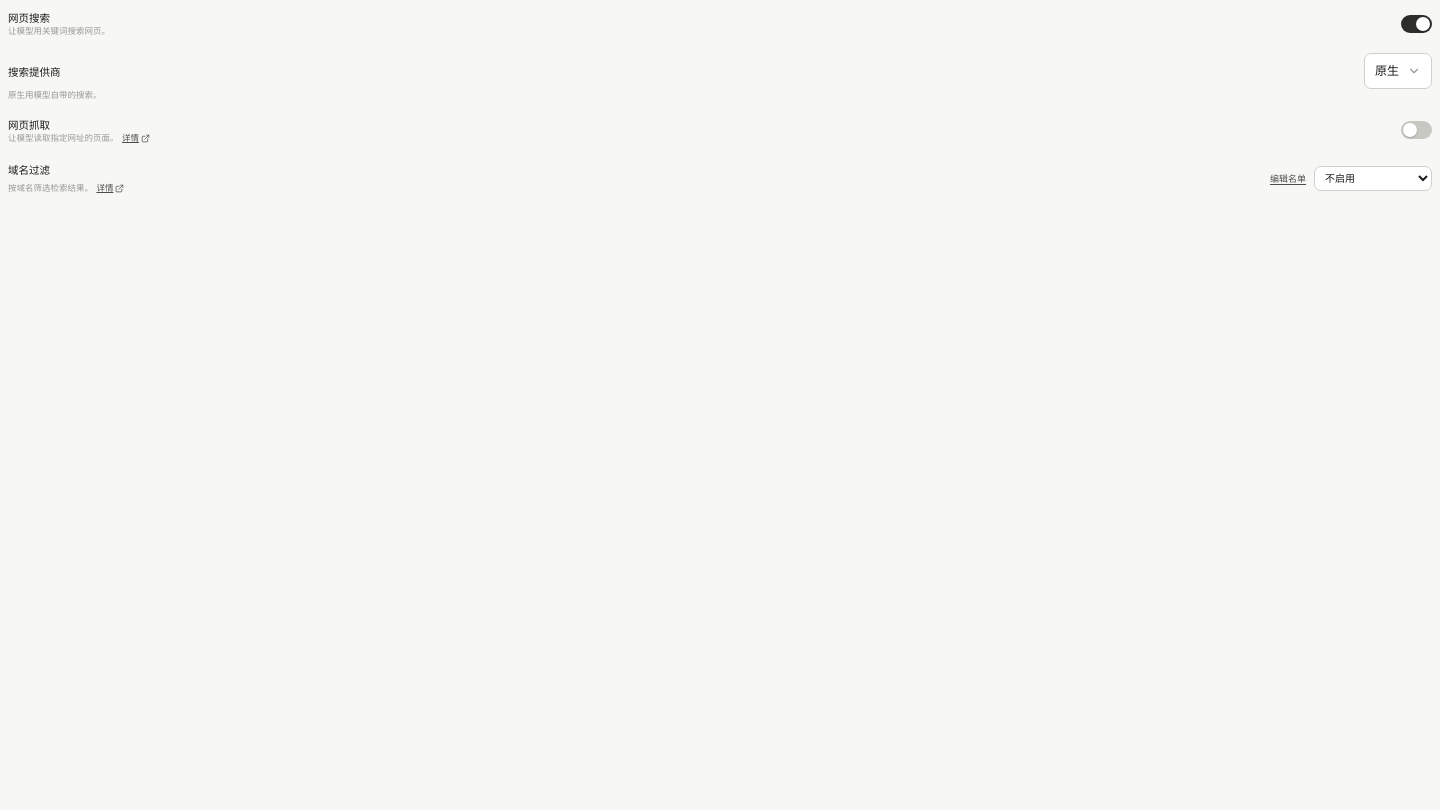
Test: WebSearchBehaviorSettings › shows only working rules as examples
What coordinates should you click on to do the following:
click the button "编辑名单"
I would click on:
 (1288, 178)
Its box is [1270,172,1306,184].
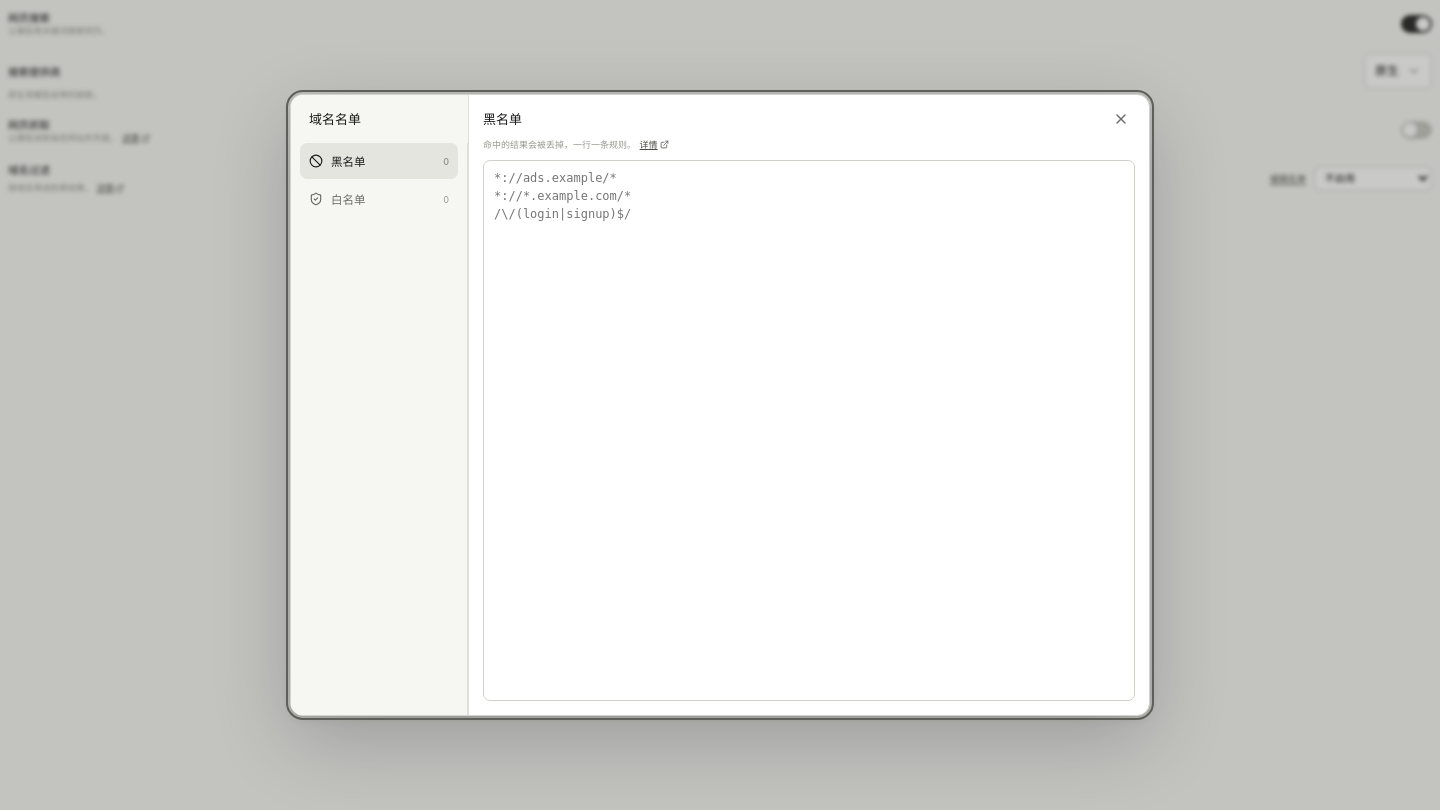
Check: the text "命中的结果会被丢掉，一行一条规则。 详情" is shown, box [483,139,669,150]
